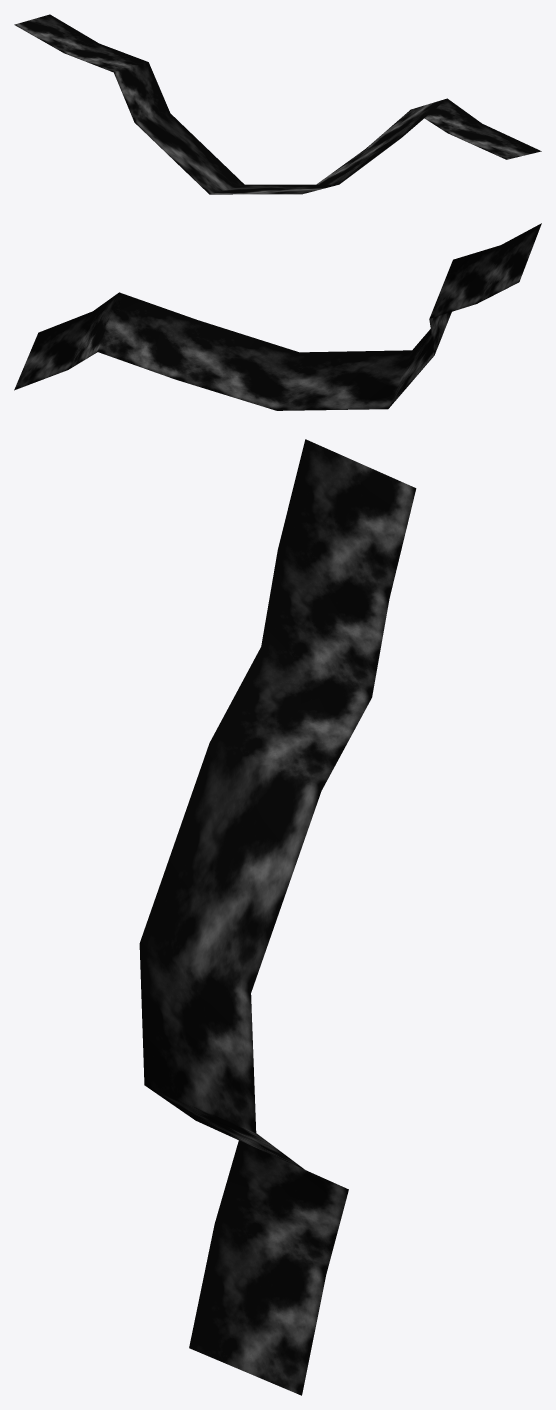
3 views of the same model, one above another, from view 1: azimuth 30°, elevation 25°; view 2: azimuth 150°, elevation 25°; view 3: azimuth 270°, elevation 25° (orthographic). The views are drawn at different scales.
Parts seen in each view (by area): view 1: Box259; view 2: Box259; view 3: Box259.
Boxes of the visible parts, left/top/right/bottom form: Box259: left=14, top=14, right=541, bottom=194; Box259: left=14, top=223, right=541, bottom=410; Box259: left=139, top=439, right=416, bottom=1395.
Size of the model in its own units: 2109 by 1095 by 537.
